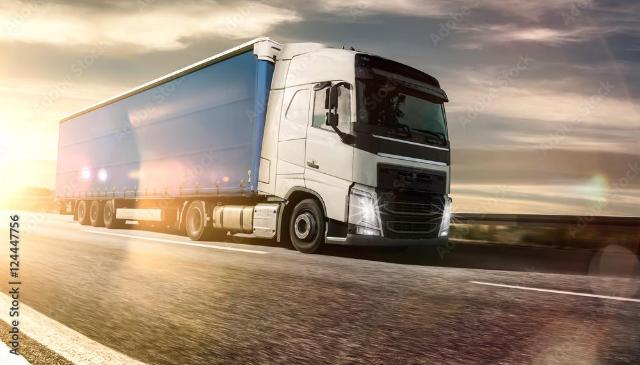truck: (83, 37, 480, 276)
